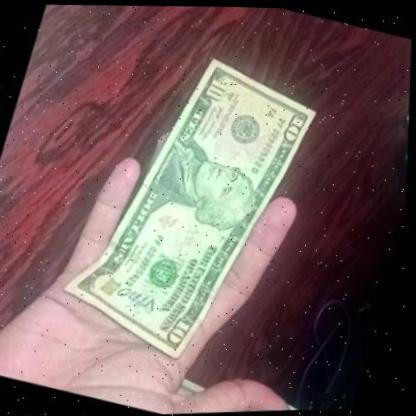dollar_front: (47, 28, 336, 389)
